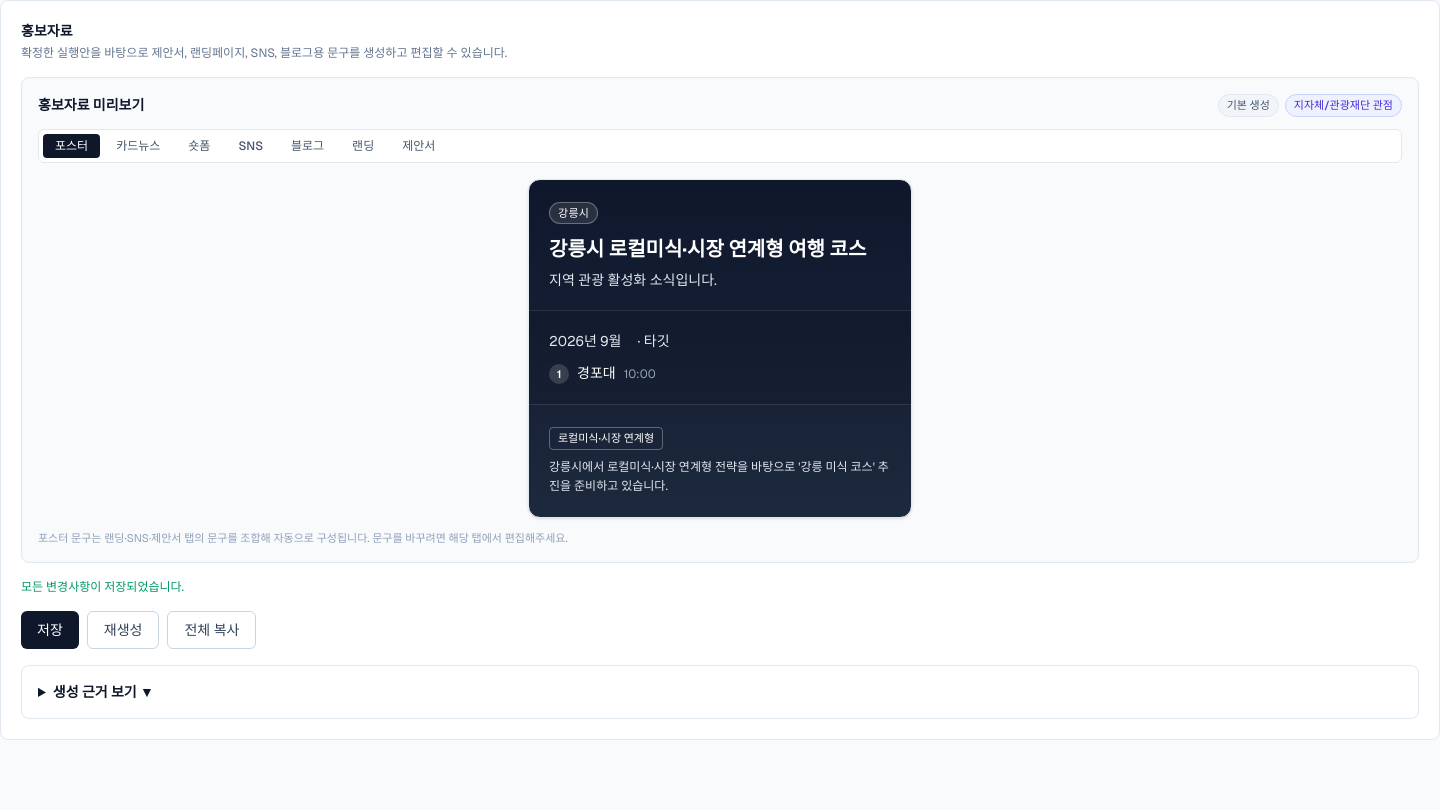
Test case: 편집과 저장 › 역할별 discriminator가 보존된다(LOCAL_GOV)
Click the tab "제안서" at (419, 146), box [390,134,447,158]
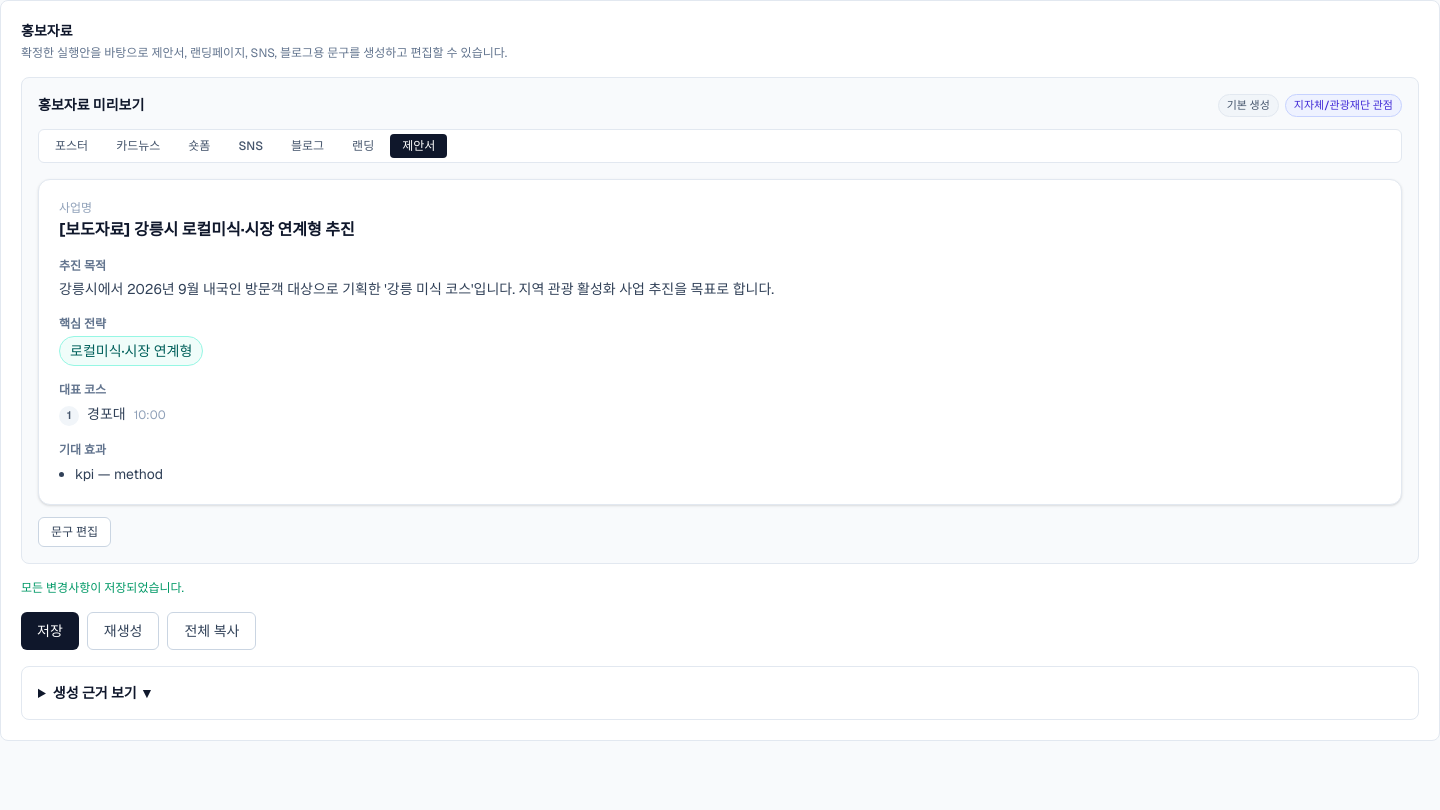
Click the button "문구 편집" at (75, 532), box [38,517,111,547]
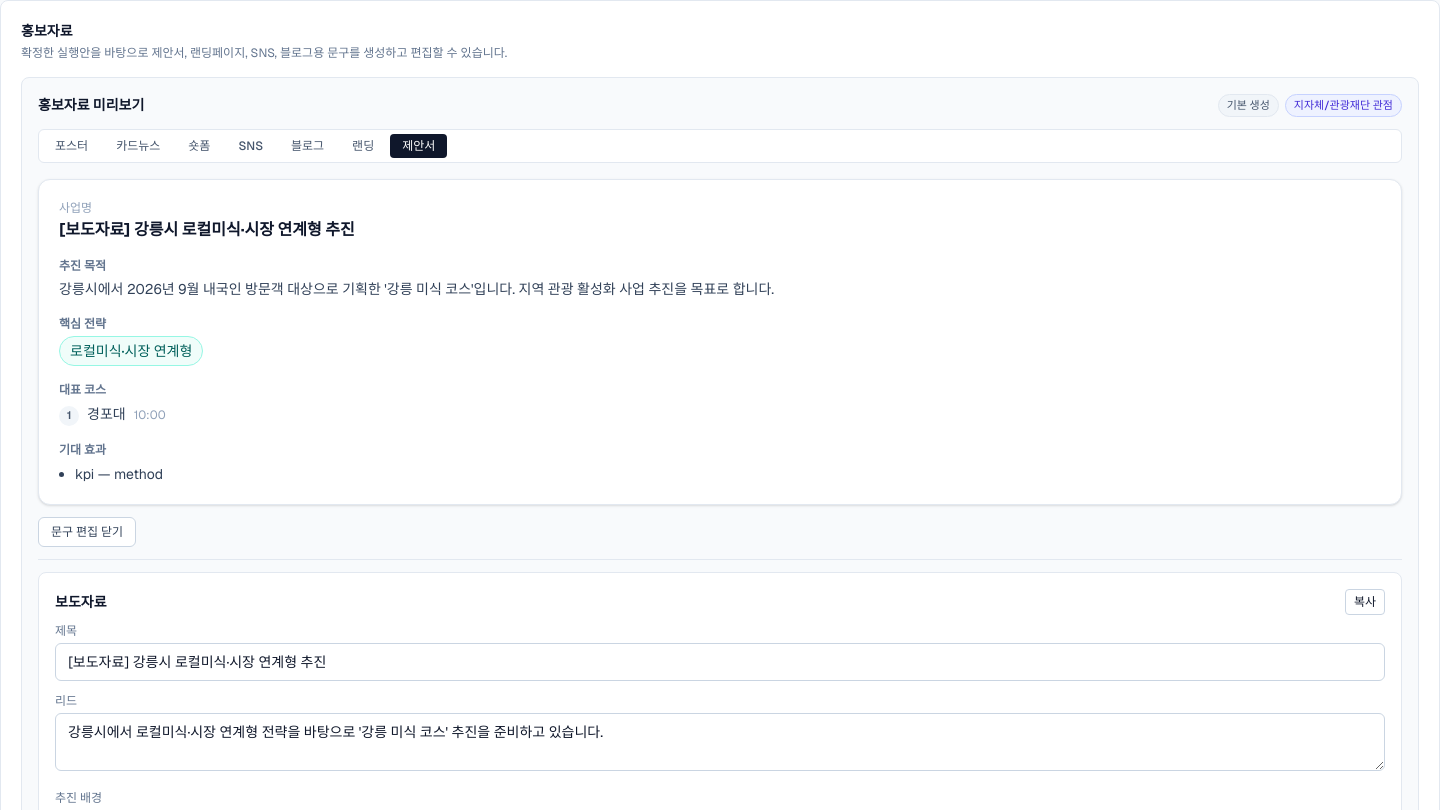
Expected: the heading "보도자료" is shown, [55,592,106,612]
